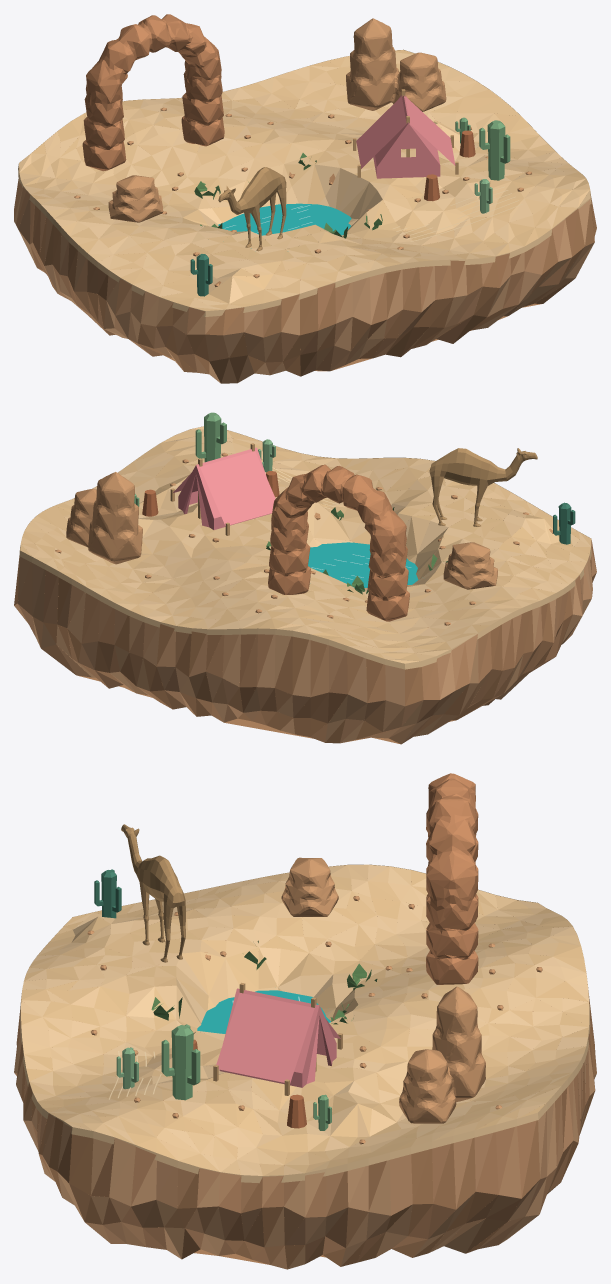
Rendered from desert.glb.
3 renders of one model, top to bottom at view 1: azimuth 30°, elevation 25°; view 2: azimuth 150°, elevation 25°; view 3: azimuth 270°, elevation 25°, orthographic. The views are drawn at different scales.
Parts seen in each view (by area): view 1: 三角切面·地表.002, 浮岛·岩层剖面.002, 砂岩拱门·连续网格, 砂岩双峰·连续网格, 游牧帐篷, 表层边缘.002, 绿洲湖面, 绿洲骆驼, 层积岩·连续网格.002, 仙人掌, 仙人掌.002; view 2: 三角切面·地表.002, 浮岛·岩层剖面.002, 砂岩拱门·连续网格, 游牧帐篷, 砂岩双峰·连续网格, 表层边缘.002, 绿洲骆驼, 绿洲湖面, 层积岩·连续网格.002, 仙人掌, 仙人掌.002; view 3: 三角切面·地表.002, 浮岛·岩层剖面.002, 砂岩拱门·连续网格, 游牧帐篷, 砂岩双峰·连续网格, 表层边缘.002, 绿洲骆驼, 层积岩·连续网格.002, 仙人掌, 绿洲湖面, 仙人掌.002, 仙人掌.001.
Part boxes in pixels (x1,y1,x2,y2): 三角切面·地表.002: (19, 50, 590, 310); 浮岛·岩层剖面.002: (14, 118, 596, 383); 砂岩拱门·连续网格: (82, 14, 224, 171); 砂岩双峰·连续网格: (346, 18, 446, 111); 游牧帐篷: (353, 89, 458, 178); 表层边缘.002: (18, 49, 591, 316); 绿洲湖面: (218, 203, 351, 248); 绿洲骆驼: (218, 167, 286, 251); 层积岩·连续网格.002: (108, 175, 163, 222); 仙人掌: (479, 120, 510, 180); 仙人掌.002: (190, 254, 212, 296); 三角切面·地表.002: (20, 426, 591, 663); 浮岛·岩层剖面.002: (14, 457, 596, 744); 砂岩拱门·连续网格: (268, 464, 409, 621); 游牧帐篷: (170, 443, 275, 535); 砂岩双峰·连续网格: (66, 472, 142, 564); 表层边缘.002: (19, 426, 591, 669); 绿洲骆驼: (429, 448, 537, 526); 绿洲湖面: (308, 542, 419, 587); 层积岩·连续网格.002: (443, 542, 497, 589); 仙人掌: (195, 412, 226, 462); 仙人掌.002: (553, 502, 575, 544); 三角切面·地表.002: (21, 864, 589, 1175); 浮岛·岩层剖面.002: (14, 881, 596, 1269); 砂岩拱门·连续网格: (426, 773, 478, 984); 游牧帐篷: (213, 982, 342, 1095); 砂岩双峰·连续网格: (399, 986, 485, 1123); 表层边缘.002: (20, 864, 590, 1183); 绿洲骆驼: (121, 824, 185, 962); 层积岩·连续网格.002: (281, 857, 338, 916); 仙人掌: (161, 1024, 200, 1100); 绿洲湖面: (197, 990, 330, 1033); 仙人掌.002: (94, 869, 121, 918); 仙人掌.001: (116, 1047, 138, 1089).
Bounding box in the file's own units: 14.06 × 7.02 × 11.9.
